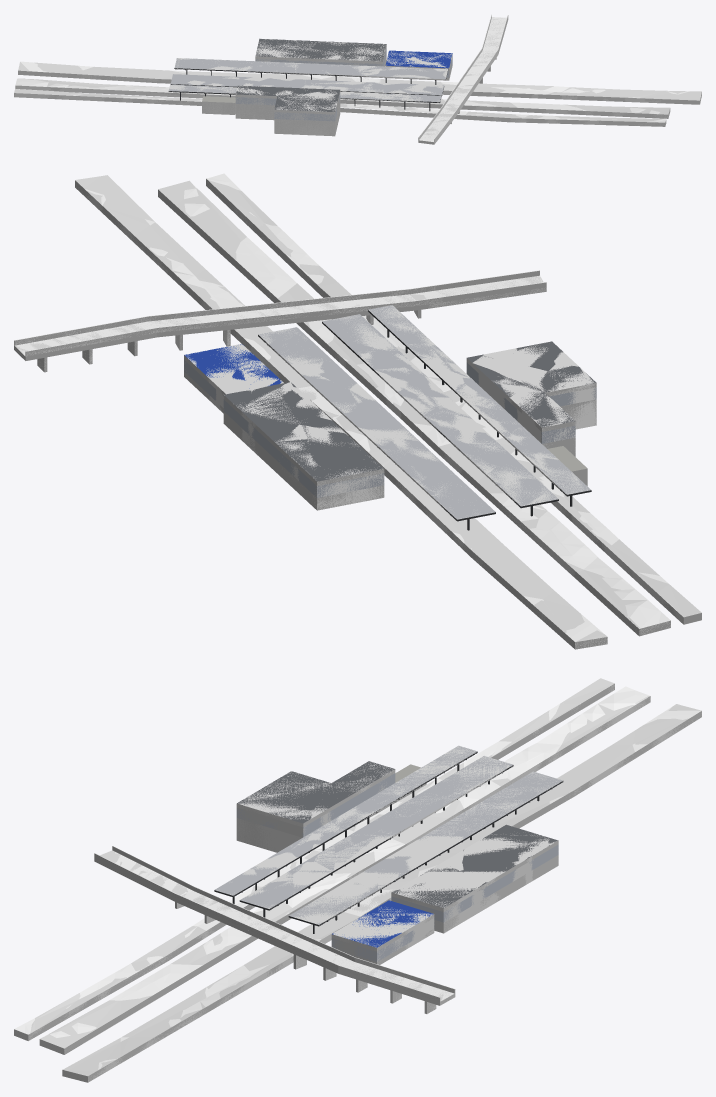
The model's file is source.glb.
3 views of the same model, one above another, from view 1: azimuth 30°, elevation 25°; view 2: azimuth 150°, elevation 25°; view 3: azimuth 270°, elevation 25° (orthographic). The views are drawn at different scales.
Parts seen in each view (by area): view 1: coll_estacao, estacao_2, estacao_0, estacao_1, estacao_4, estacao_5, estacao_3, estacao_6, estacao_7; view 2: coll_estacao, estacao_2, estacao_0, estacao_4, estacao_1, estacao_5, estacao_7, estacao_3, estacao_6; view 3: coll_estacao, estacao_2, estacao_0, estacao_1, estacao_4, estacao_5, estacao_7, estacao_3, estacao_6.
Part boxes in pixels (left/top/right/bottom): coll_estacao: left=14, top=16, right=701, bottom=144; estacao_2: left=168, top=38, right=452, bottom=111; estacao_0: left=15, top=17, right=689, bottom=141; estacao_1: left=14, top=70, right=701, bottom=126; estacao_4: left=202, top=14, right=508, bottom=141; estacao_5: left=235, top=48, right=452, bottom=121; estacao_3: left=168, top=68, right=448, bottom=111; estacao_6: left=235, top=45, right=452, bottom=114; estacao_7: left=418, top=18, right=508, bottom=144; coll_estacao: left=14, top=175, right=701, bottom=648; estacao_2: left=184, top=305, right=596, bottom=519; estacao_0: left=15, top=173, right=680, bottom=641; estacao_4: left=14, top=270, right=596, bottom=510; estacao_1: left=75, top=179, right=701, bottom=649; estacao_5: left=184, top=360, right=596, bottom=497; estacao_7: left=14, top=287, right=546, bottom=372; estacao_3: left=258, top=310, right=591, bottom=530; estacao_6: left=184, top=355, right=596, bottom=485; coll_estacao: left=14, top=678, right=701, bottom=1082; estacao_2: left=215, top=745, right=562, bottom=947; estacao_0: left=14, top=686, right=701, bottom=1069; estacao_1: left=14, top=683, right=701, bottom=1082; estacao_4: left=94, top=783, right=558, bottom=1001; estacao_5: left=236, top=773, right=558, bottom=961; estacao_7: left=94, top=858, right=455, bottom=1013; estacao_3: left=214, top=751, right=563, bottom=933; estacao_6: left=236, top=769, right=558, bottom=951.
Size of the model in its own units: 216 by 10.86 by 160.
